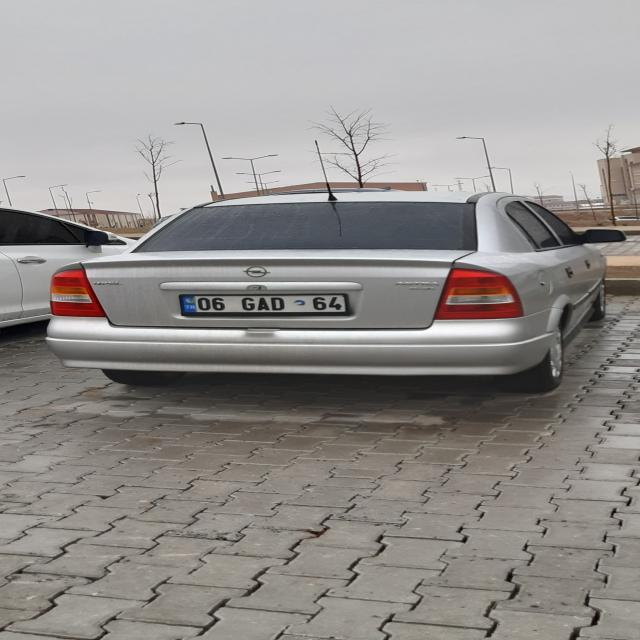plate: (180, 294, 348, 312)
